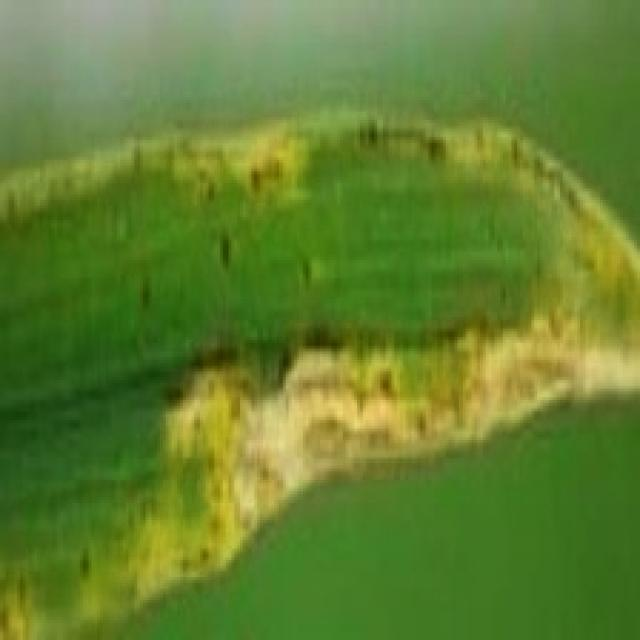Unhealthy: (162, 298, 640, 589), (353, 111, 640, 308), (0, 118, 300, 236), (0, 564, 47, 640), (214, 229, 229, 273), (297, 255, 313, 295)
